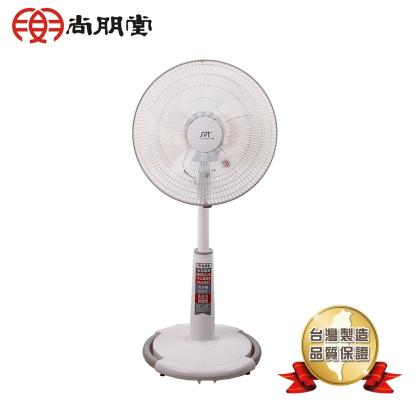fan: (128, 57, 280, 384)
